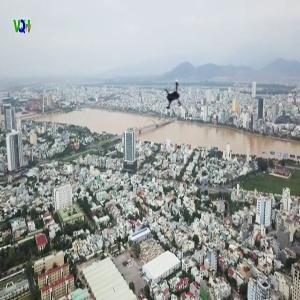drone: (157, 80, 197, 120)
